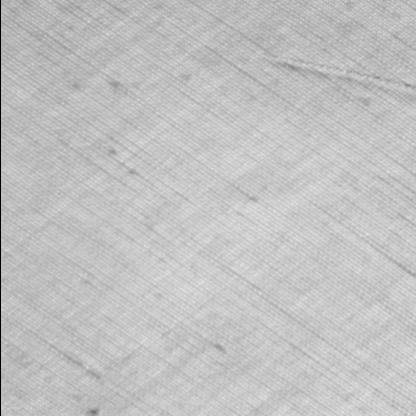objects: (256, 51, 415, 94)
